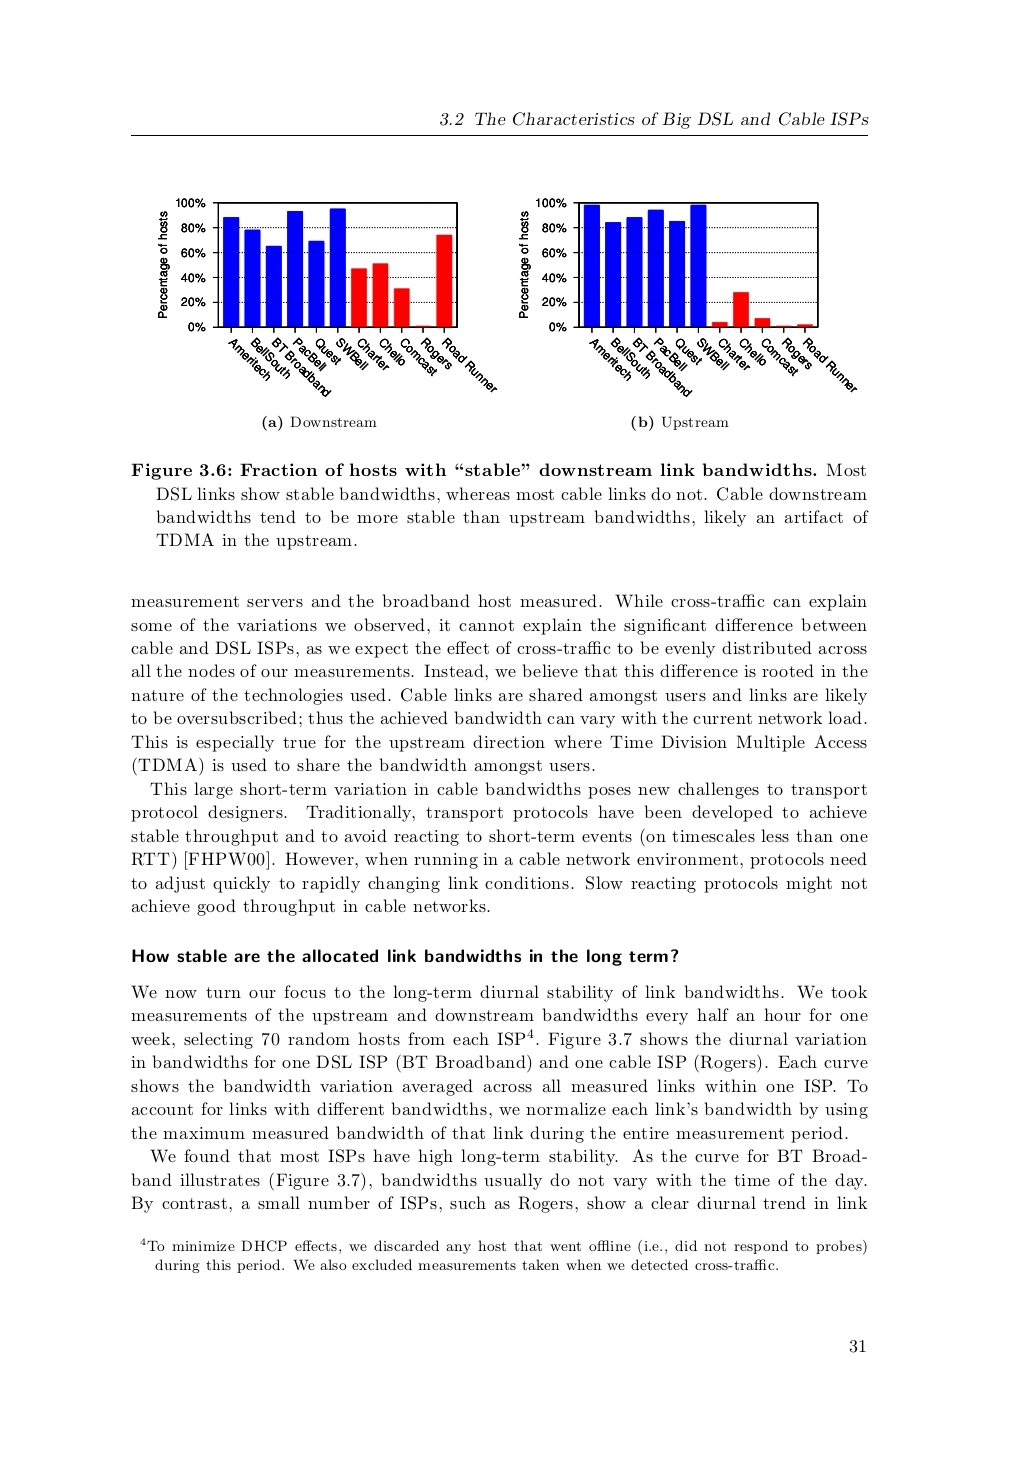figure: (158, 199, 497, 397), (519, 199, 857, 397)
